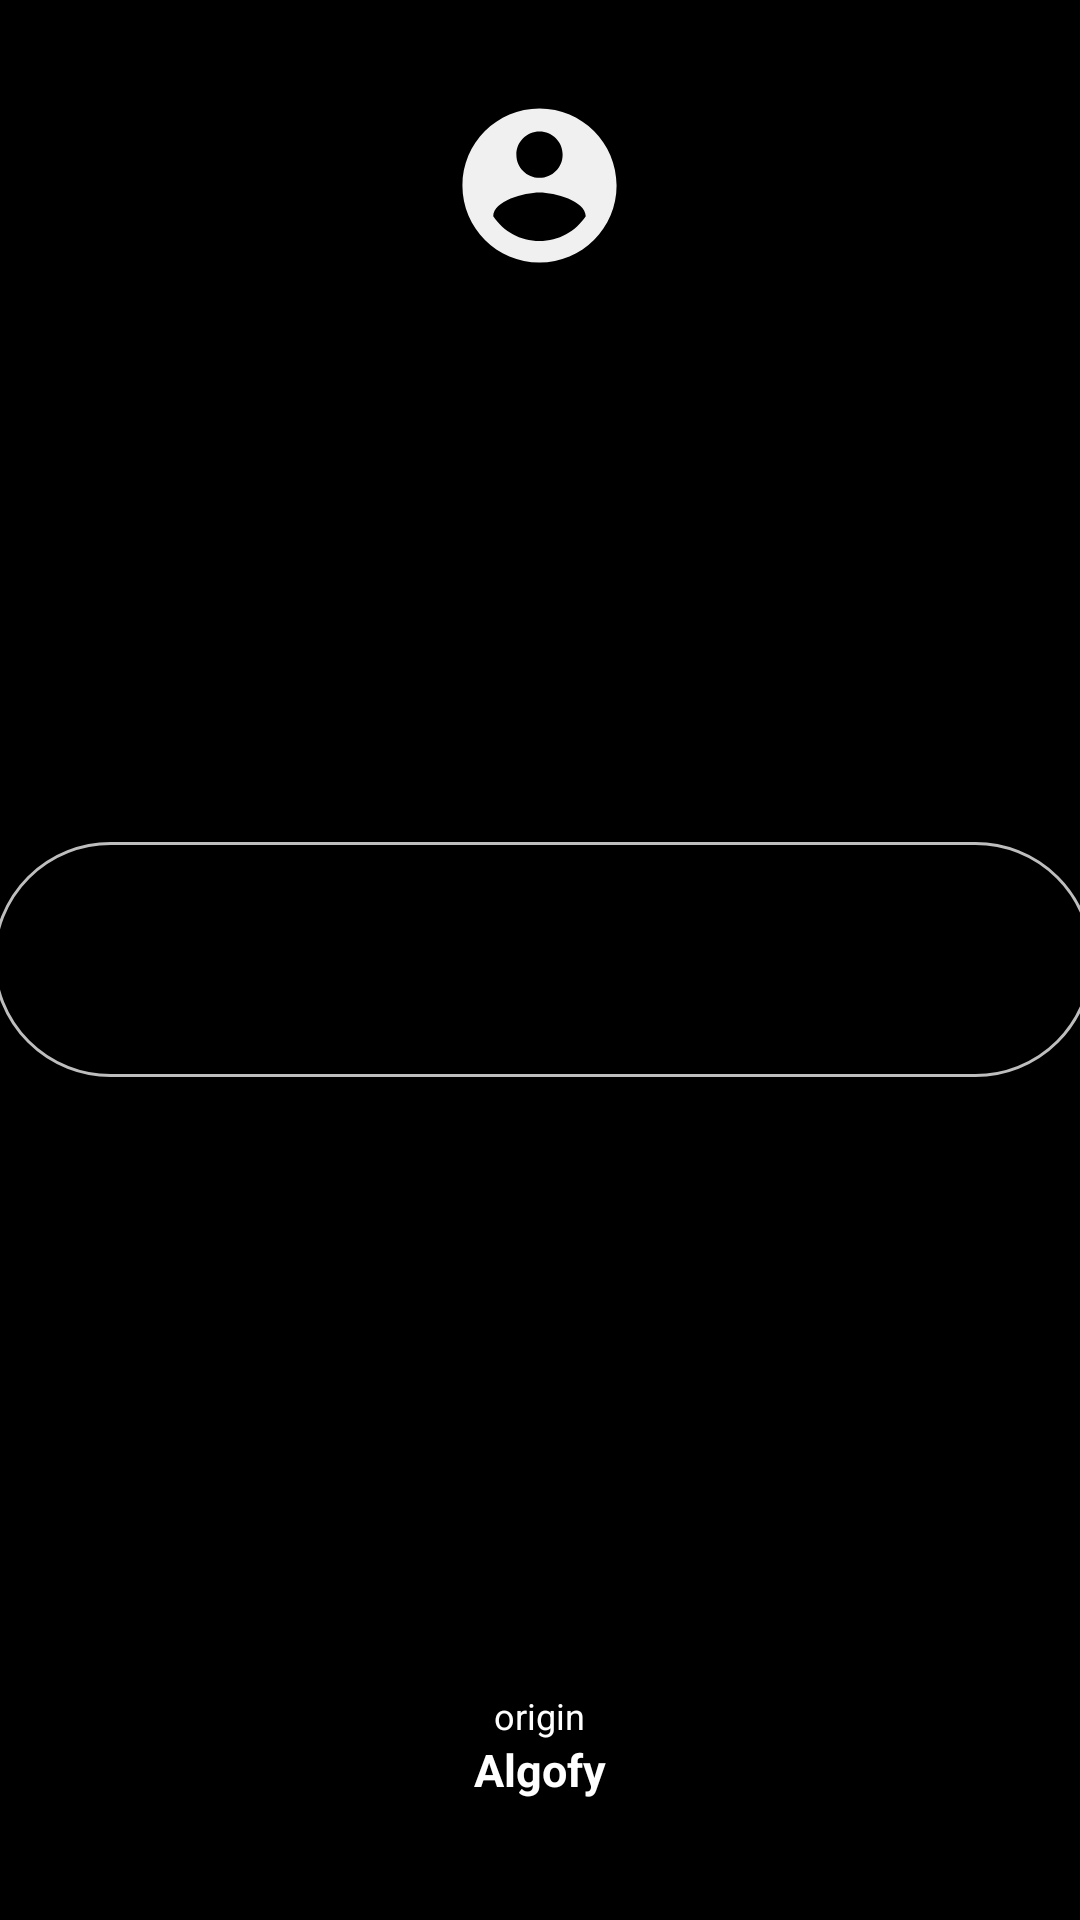

Where icons sit on this 1080 × 1920 app screen, as (x1, y1, x2, y2):
account circle: (462, 108, 617, 263)
